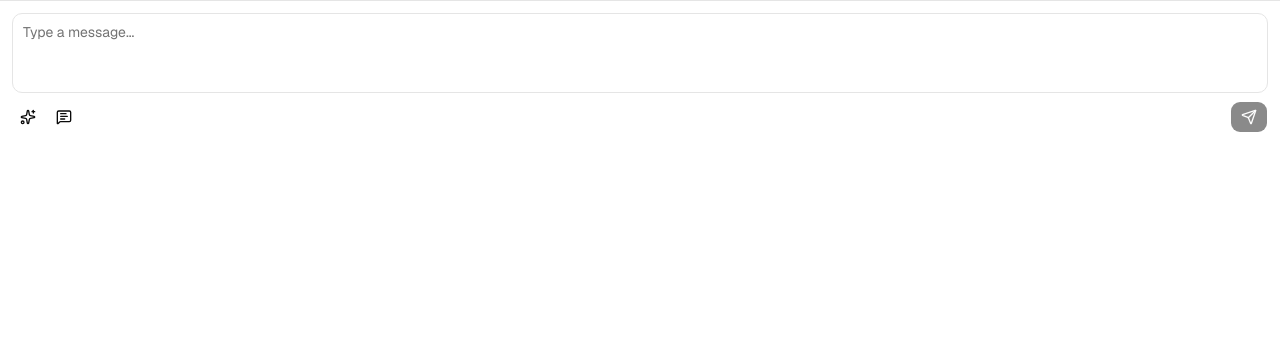
Test case: MessageComposer › AI assist › shows a suggested reply as a preview that is not sent or inserted until accepted
Click the button named "AI assist".
click(28, 117)  # box x1=12 y1=101 x2=44 y2=133
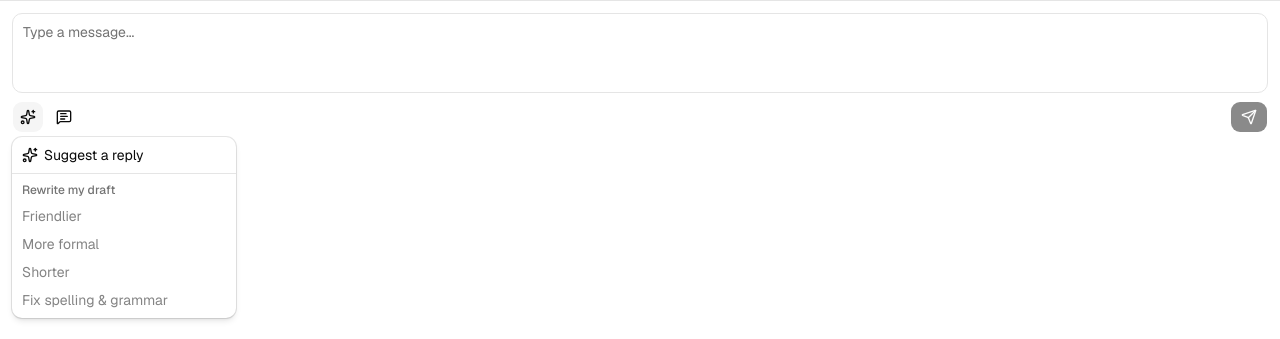
Click the menu item "Suggest a reply".
click(83, 155)  # box x1=22 y1=146 x2=144 y2=164
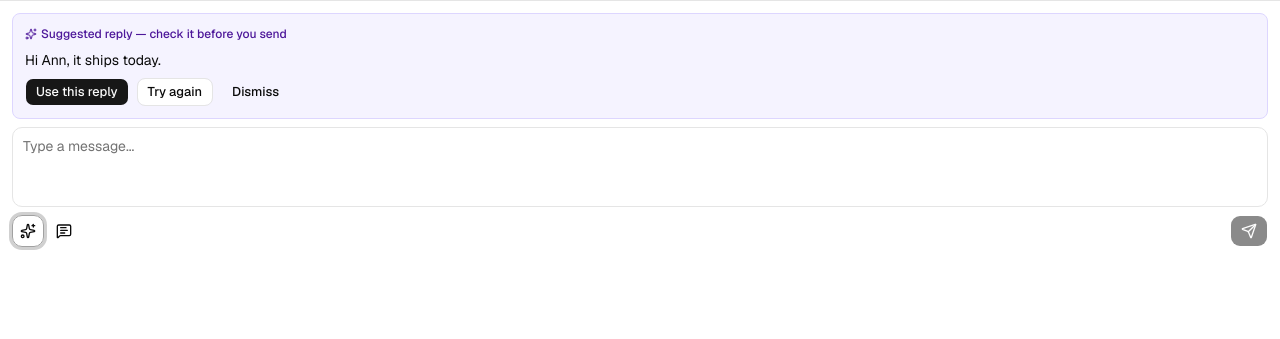
Expected: the text box with placeholder "Type a message..." is empty, x1=12 y1=127 x2=1268 y2=207
Expected: the text "Hi Ann, it ships today." is shown, x1=25 y1=51 x2=161 y2=69
Expected: the text "Suggested reply — check it before you send" is shown, x1=25 y1=26 x2=287 y2=42
Click the button "Use this reply".
click(77, 92)  # box x1=25 y1=78 x2=128 y2=106
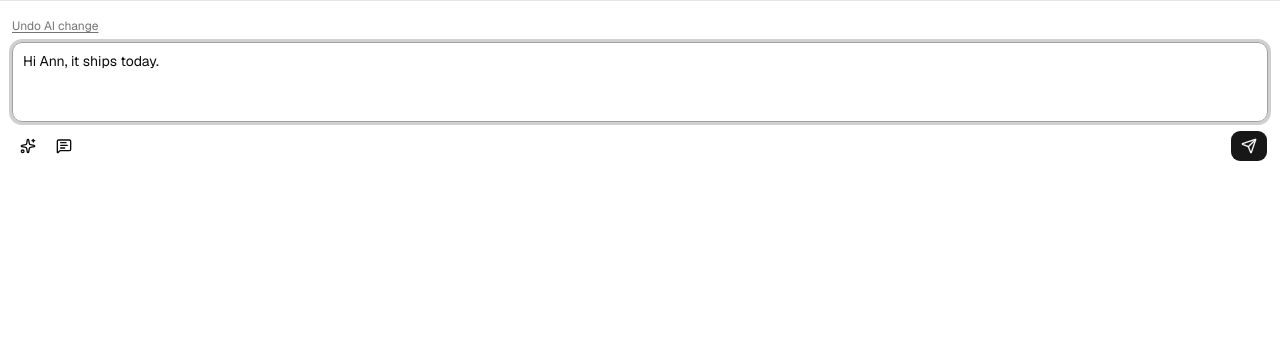
Expected: the text box with placeholder "Type a message..." holds "Hi Ann, it ships today.", x1=12 y1=42 x2=1268 y2=122
